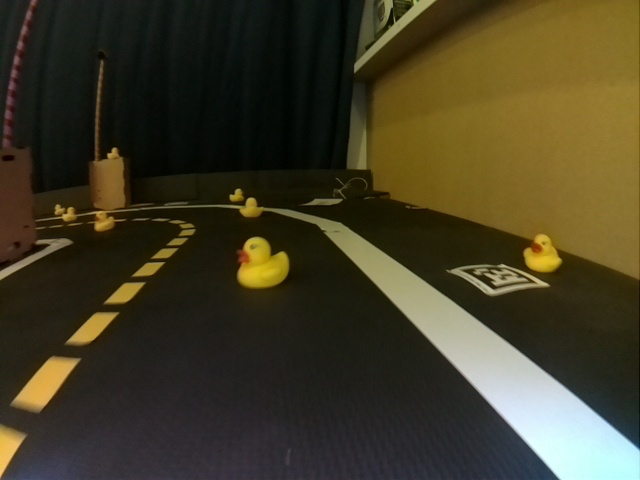Duckie: (235, 237, 290, 288), (525, 234, 562, 273), (93, 211, 115, 233), (239, 197, 261, 217), (229, 188, 246, 203), (61, 209, 77, 220), (107, 147, 119, 158), (54, 204, 63, 215)
QR code: (449, 262, 546, 296)
